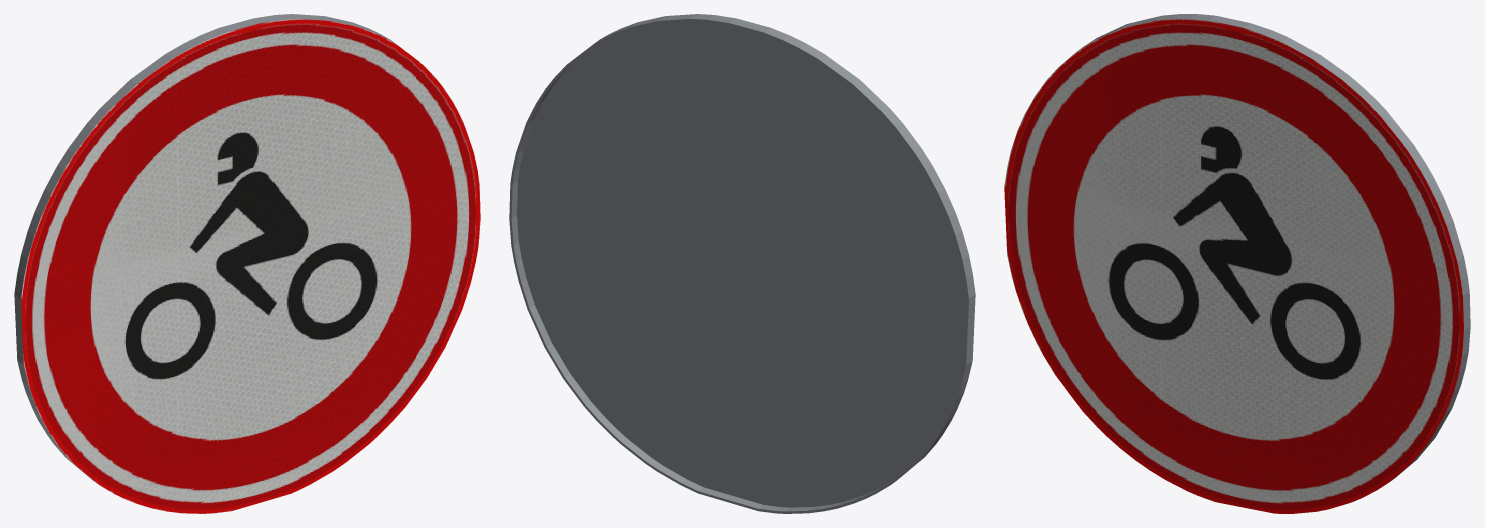
3 renders of one model, left to right at view 1: azimuth 30°, elevation 25°; view 2: azimuth 150°, elevation 25°; view 3: azimuth 330°, elevation 25°, orthographic.
Parts seen in each view (by area): view 1: cat_62ddd23b801fc583; view 2: cat_62ddd23b801fc583; view 3: cat_62ddd23b801fc583.
Boxes of the visible parts, <box> form: cat_62ddd23b801fc583: <box>14,14,480,513</box>; cat_62ddd23b801fc583: <box>509,14,975,513</box>; cat_62ddd23b801fc583: <box>1004,14,1470,513</box>.
Bounding box in the file's own units: 0.6 × 0.015 × 0.6.
Materials: 2 (1 with a texture image).
